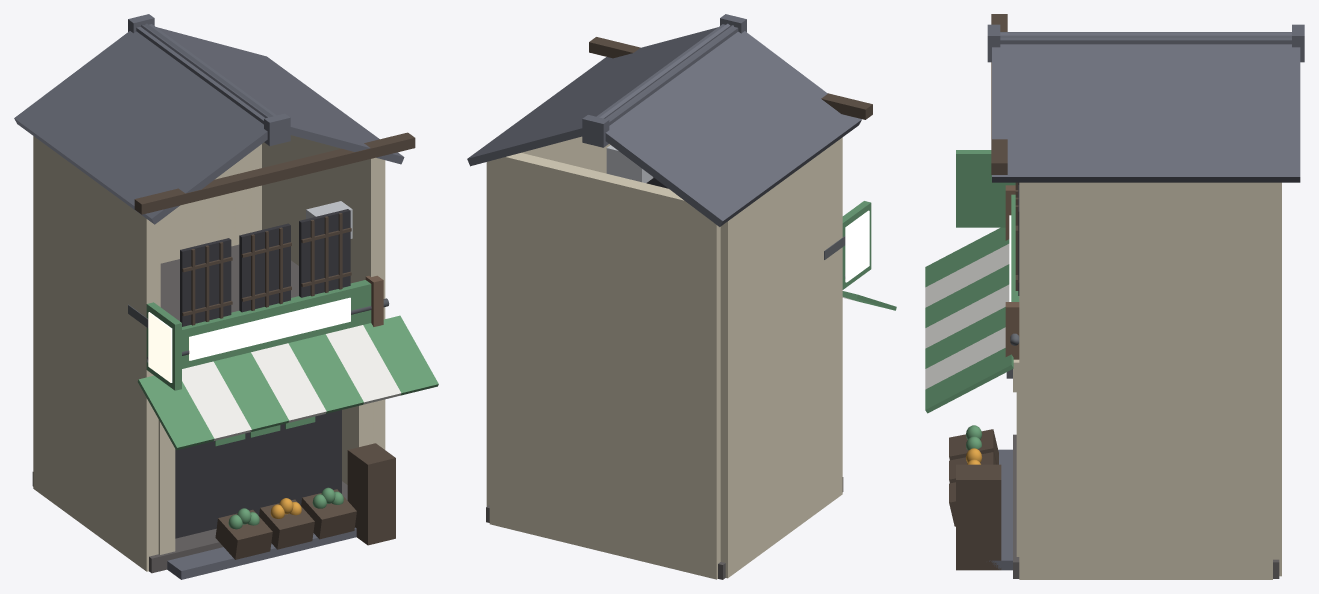
The model's file is prop_shop_yaoya.glb.
The picture shows the model from 3 angles, left to right: view 1: azimuth 30°, elevation 25°; view 2: azimuth 150°, elevation 25°; view 3: azimuth 270°, elevation 25°; orthographic projection. The views are drawn at different scales.
Parts seen in each view (by area): view 1: shop_yaoya; view 2: shop_yaoya; view 3: shop_yaoya.
Boxes of the visible parts, x1=… form: shop_yaoya: x1=14, y1=14, x2=438, y2=579; shop_yaoya: x1=467, y1=14, x2=896, y2=579; shop_yaoya: x1=925, y1=14, x2=1304, y2=579.
Bounding box in the file's own units: 3.9 × 5.9 × 4.19.
